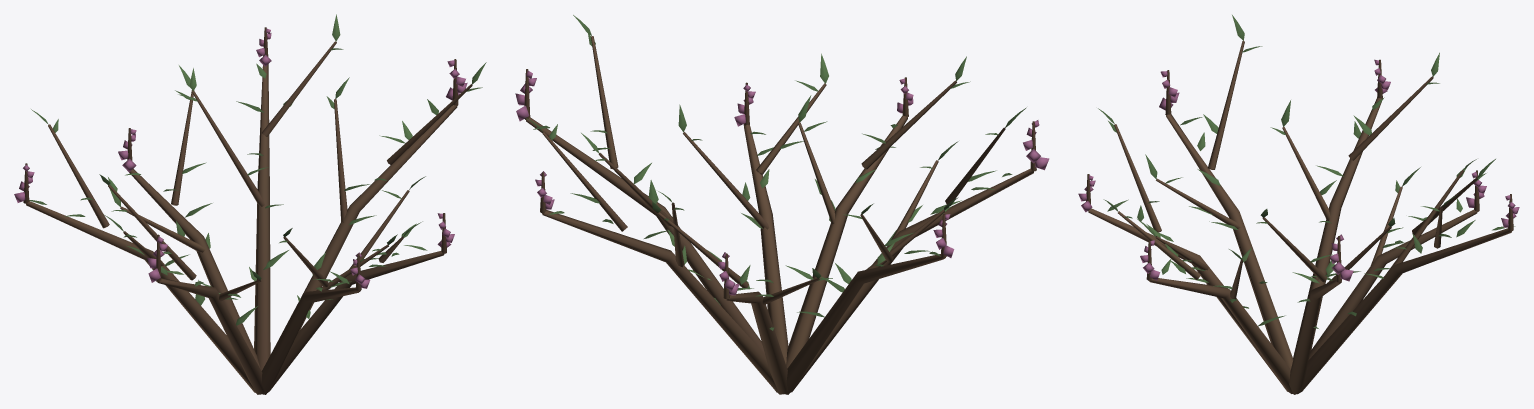
The model's file is flowering_heather.glb.
3 renders of one model, left to right at view 1: azimuth 30°, elevation 25°; view 2: azimuth 150°, elevation 25°; view 3: azimuth 270°, elevation 25°, orthographic. The views are drawn at different scales.
Parts seen in each view (by area): view 1: flowering_heather; view 2: flowering_heather; view 3: flowering_heather.
Part boxes in pixels (left/top/right/bottom): flowering_heather: left=14, top=14, right=486, bottom=394; flowering_heather: left=515, top=15, right=1049, bottom=394; flowering_heather: left=1078, top=15, right=1519, bottom=394.
Bounding box in the file's own units: 0.7348 × 0.472 × 0.6638.
